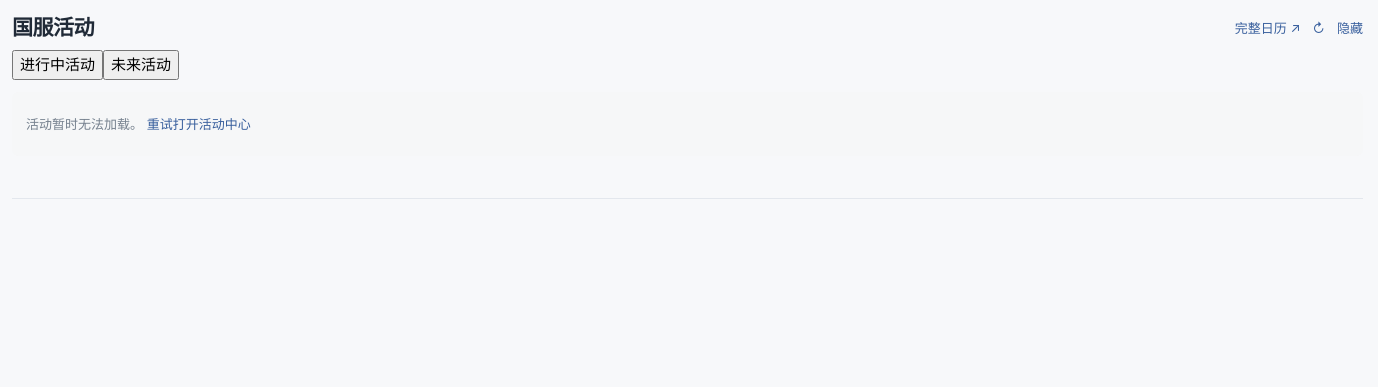
Scenario: 首页公开活动 › 服务不可用时展示重试，且不伪装为无活动
expect the message "活动暂时无法加载。 重试 打开活动中心" is shown: met, box [12,92,1363,156]
Click the button "重试" at [160, 124], box [147,102,173,146]
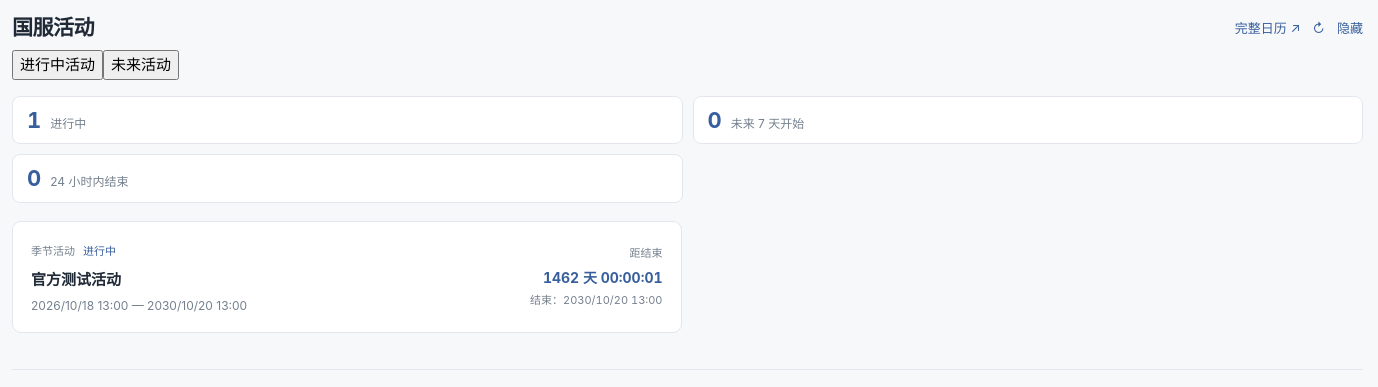
expect the link "官方测试活动" is shown: met, box [31,270,121,289]
